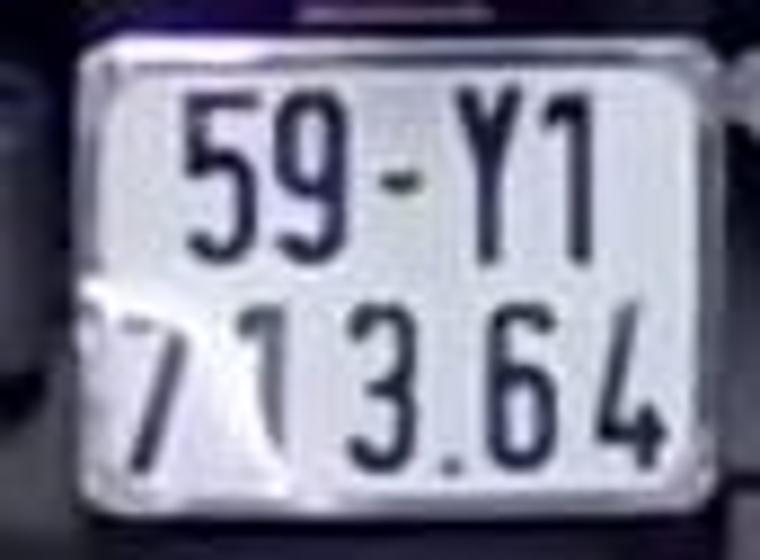-: (375, 162, 427, 199)
.: (438, 443, 467, 482)
1: (231, 301, 292, 492), (539, 87, 601, 269)
3: (342, 298, 420, 478)
4: (598, 297, 674, 474)
5: (178, 86, 261, 271)
6: (480, 299, 562, 476)
7: (115, 310, 187, 480)
9: (272, 88, 351, 271)
Y: (447, 81, 527, 274)
